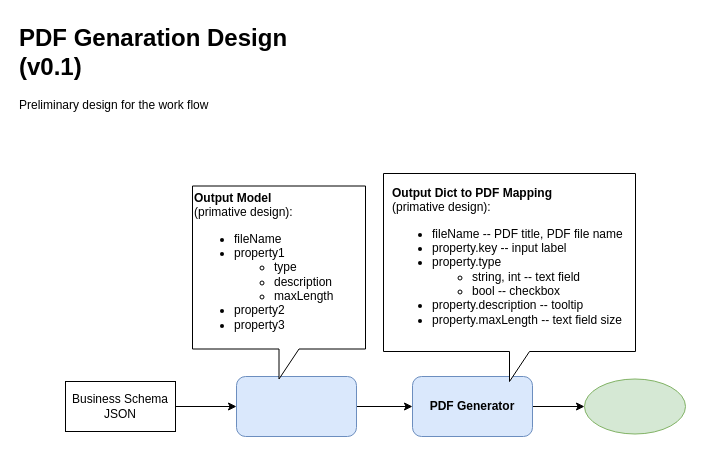
This 703x454 diagram has some shape labels left out. Each missing label, with the centre of its shape:
Fillable PDF File: [635,406]
JSON Parser: [296,406]
